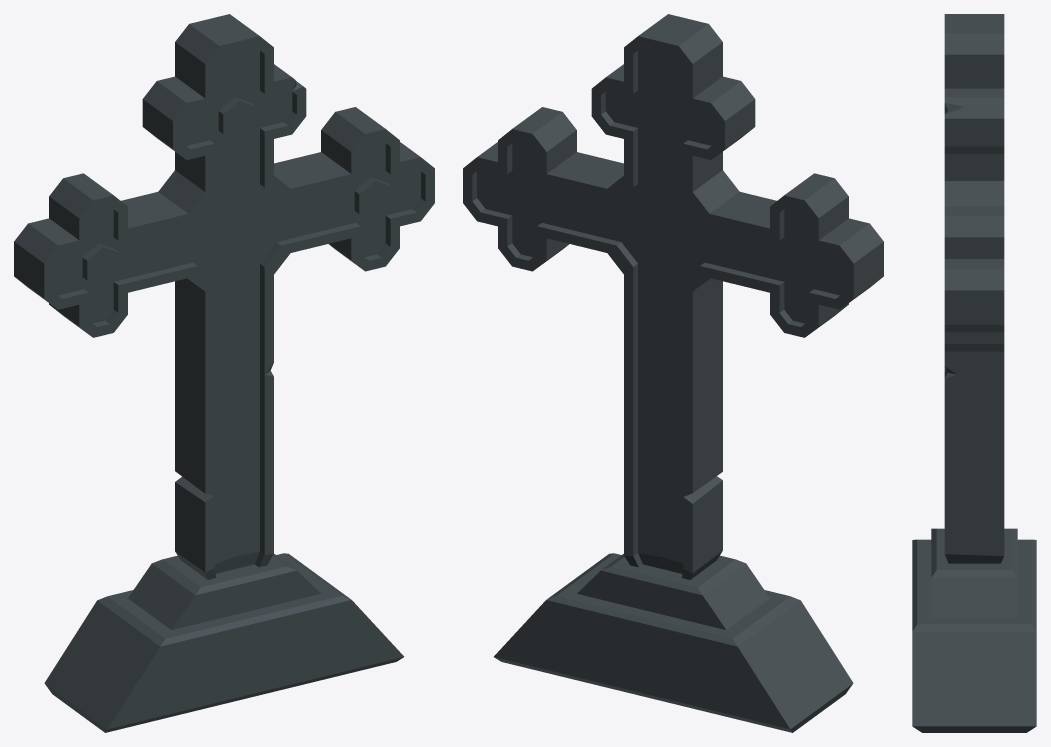
The model's file is tombstone_7.fbx.
The picture shows the model from 3 angles, left to right: view 1: azimuth 30°, elevation 25°; view 2: azimuth 150°, elevation 25°; view 3: azimuth 270°, elevation 25°; orthographic projection.
Visible parts, largest first — view 1: tombstone6; view 2: tombstone6; view 3: tombstone6.
Boxes of the visible parts, x1,y1,x2,y2 form: tombstone6: (14, 14, 434, 732); tombstone6: (463, 14, 883, 732); tombstone6: (912, 14, 1036, 732).
Size of the model in its own units: 0.8661 by 1.37 by 0.2425.
